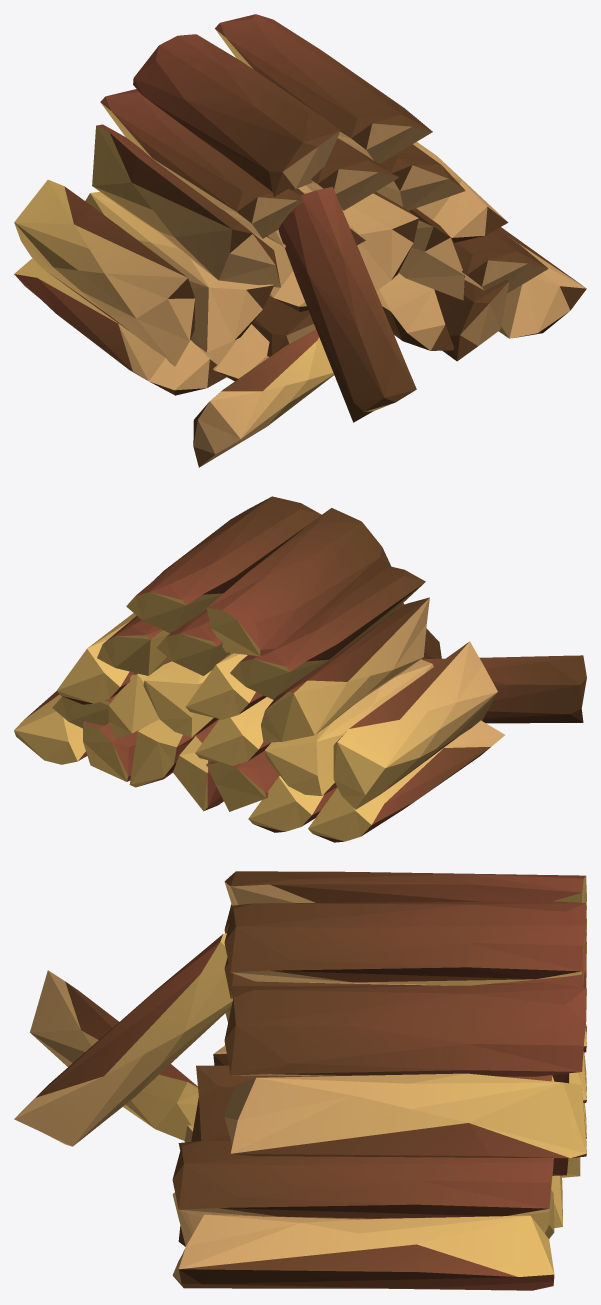
Rendered from ChoppedWood.fbx.
3 views of the same model, one above another, from view 1: azimuth 30°, elevation 25°; view 2: azimuth 150°, elevation 25°; view 3: azimuth 270°, elevation 25° (orthographic). The views are drawn at different scales.
Parts seen in each view (by area): view 1: ChoppedWood; view 2: ChoppedWood; view 3: ChoppedWood.
Part boxes in pixels (x1,y1,x2,y2): ChoppedWood: [14, 14, 586, 467]; ChoppedWood: [14, 496, 586, 842]; ChoppedWood: [14, 871, 586, 1290].
Bounding box in the file's own units: 1.16 × 0.613 × 1.06.
